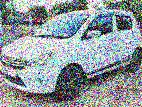car: (1, 9, 142, 99)
